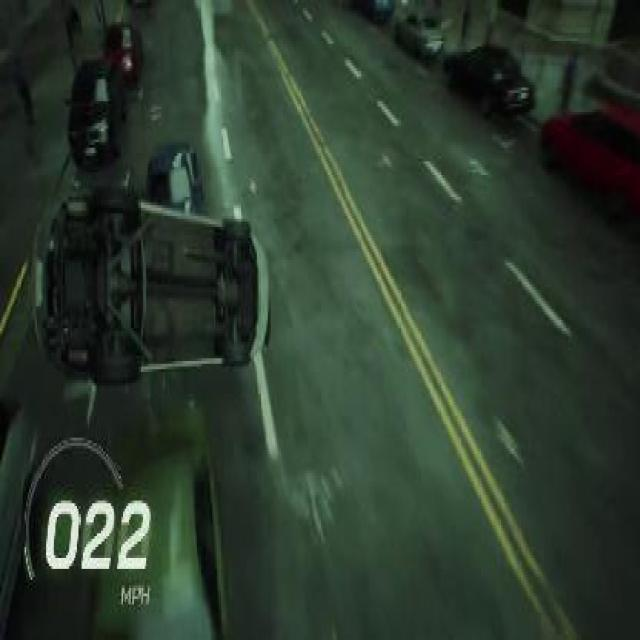accident: (28, 175, 275, 399)
